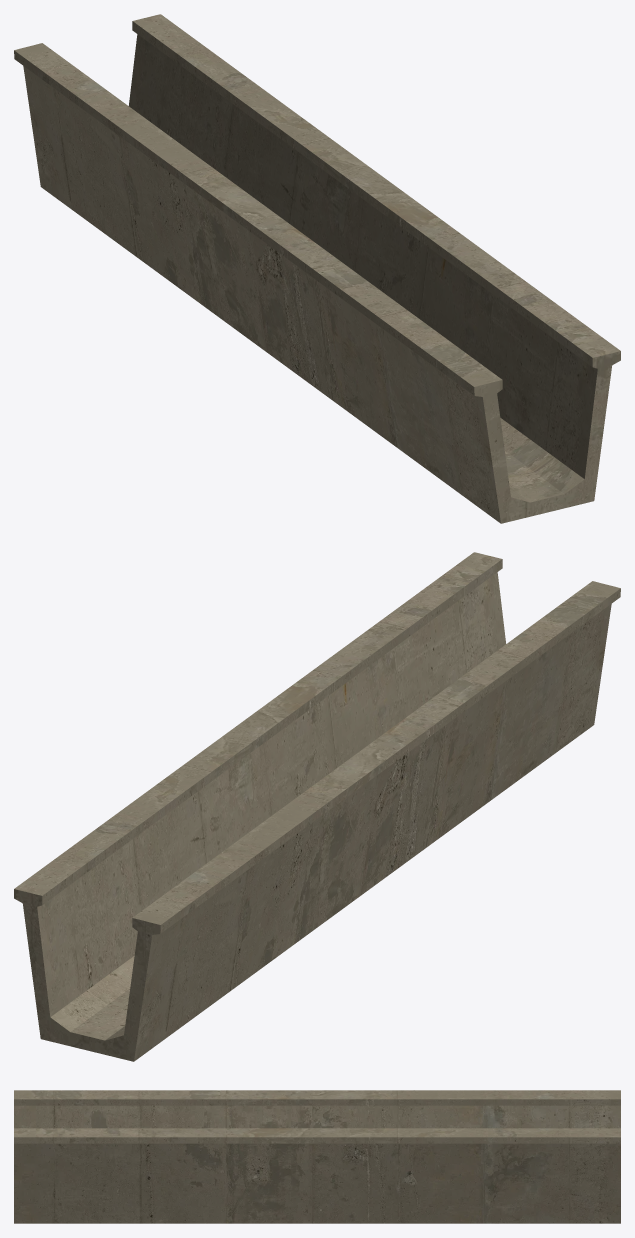
File: viga-concreto-tubgirder.glb
3 views of the same model, one above another, from view 1: azimuth 30°, elevation 25°; view 2: azimuth 150°, elevation 25°; view 3: azimuth 270°, elevation 25° (orthographic). The views are drawn at different scales.
Parts seen in each view (by area): view 1: Beam.005; view 2: Beam.005; view 3: Beam.005.
Boxes of the visible parts, x1,y1,x2,y2 form: Beam.005: (14,14,620,523); Beam.005: (14,552,620,1061); Beam.005: (14,1090,620,1223).
Bounding box in the file's own units: 2.25 × 2.1 × 12.2.
1 material, 1 textured.
